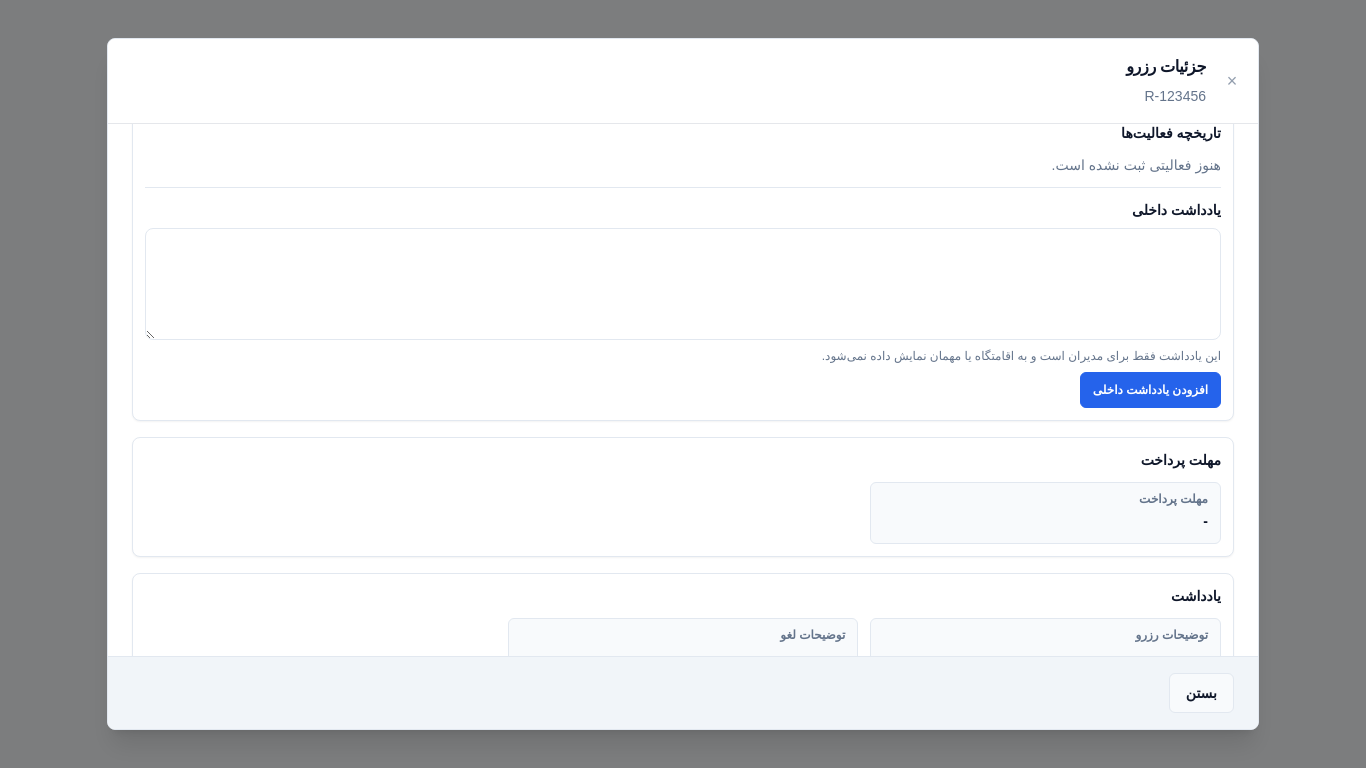
Scenario: Admin reservation activity timeline › trims a new note, prevents empty submission, appends the response and clears the field
The image size is (1366, 768).
(page scrolled)
Check: the text "هنوز فعالیتی ثبت نشده است." is shown, box [1052, 157, 1221, 173]
Click the button "افزودن یادداشت داخلی" at (1150, 390), box [1080, 372, 1221, 408]
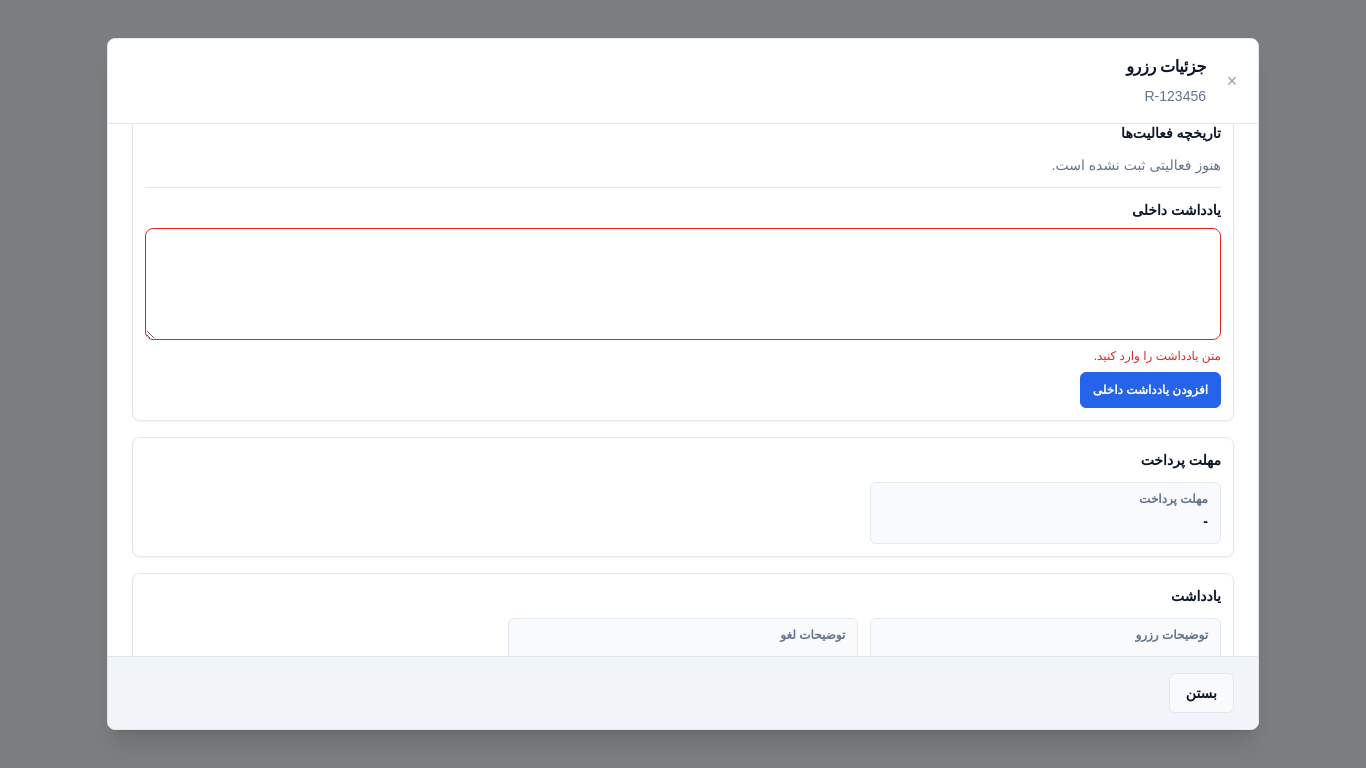
Check: the text "متن یادداشت را وارد کنید." is shown, box [1094, 349, 1221, 363]
Type "  پیگیری شد  " into the text box labelled "یادداشت داخلی" at (683, 284), box [145, 228, 1221, 340]
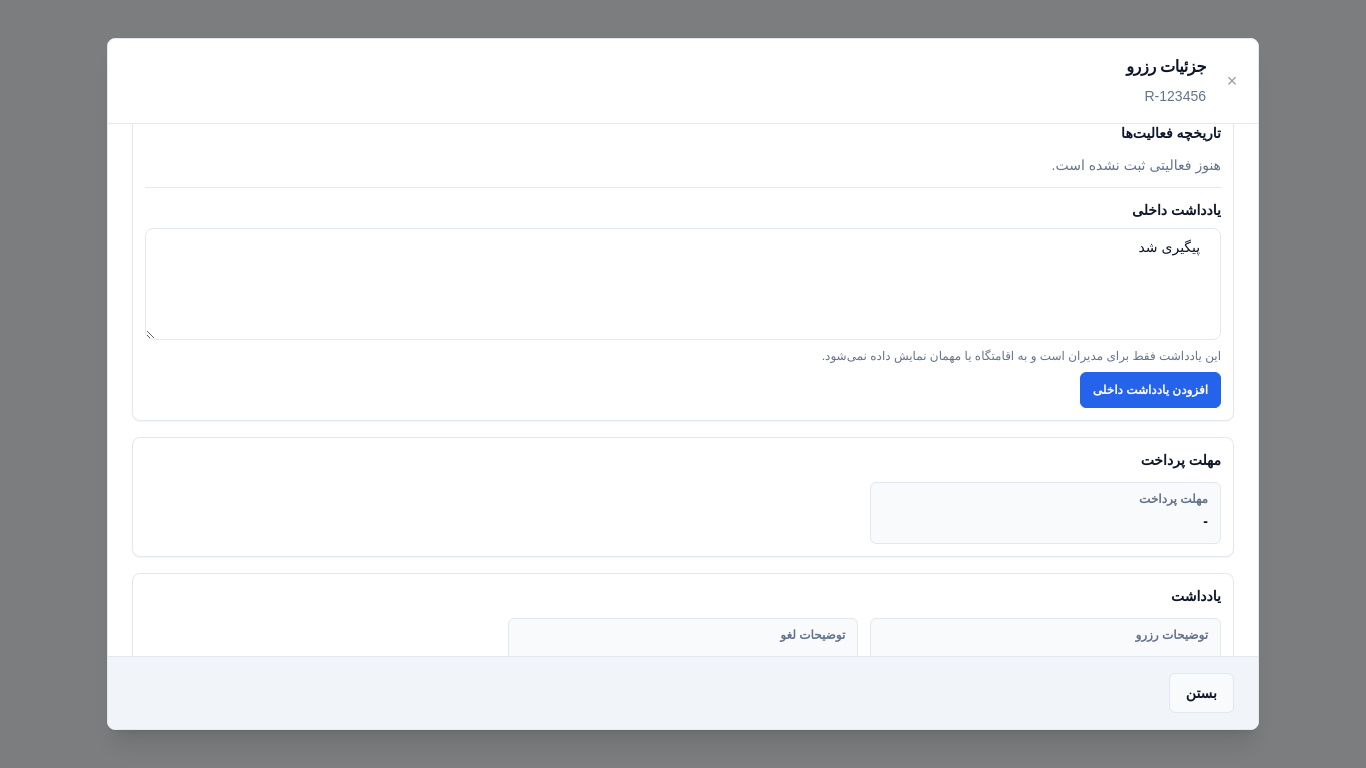
Click the button "افزودن یادداشت داخلی" at (1150, 390), box [1080, 372, 1221, 408]
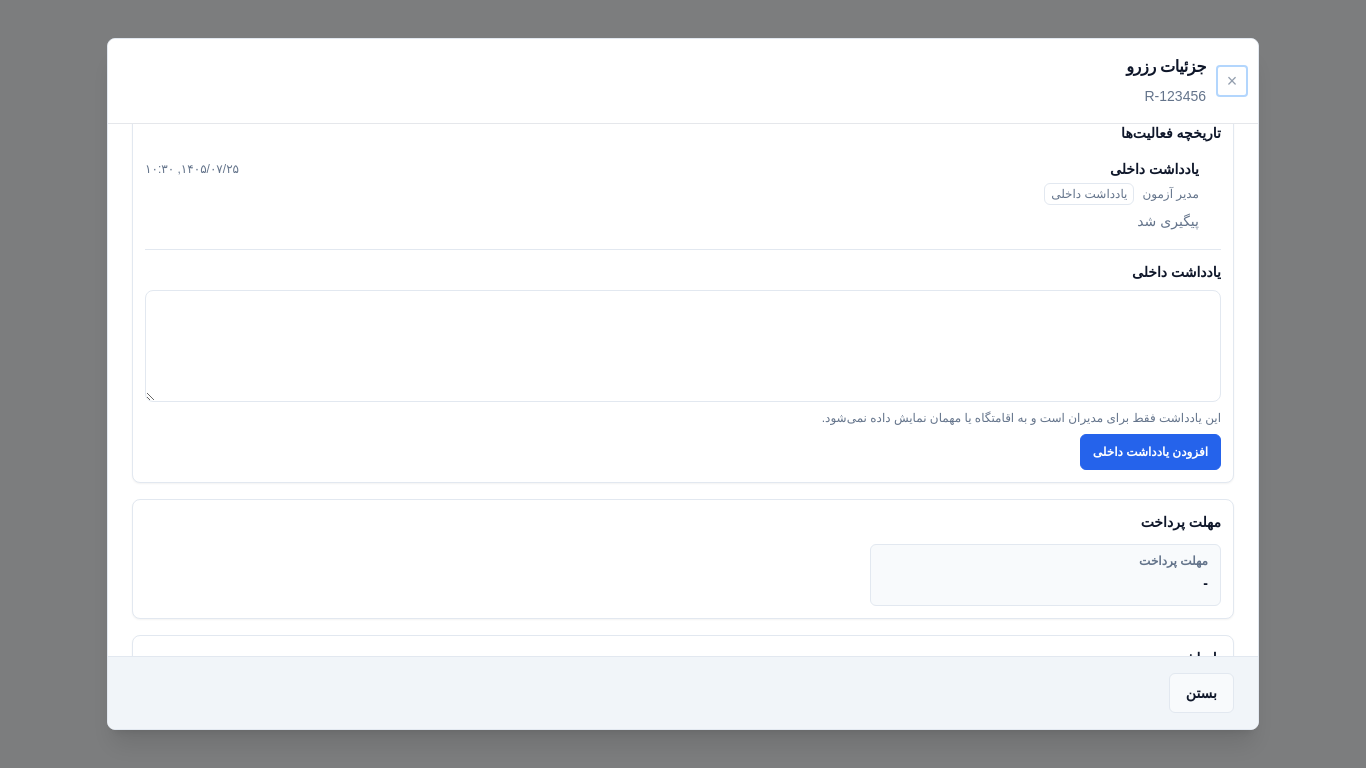
Check: the text "پیگیری شد" is shown, box [1137, 213, 1199, 229]
Check: the text "مدیر آزمون" is shown, box [1142, 186, 1199, 202]
Check: the text box labelled "یادداشت داخلی" is empty, box [145, 290, 1221, 402]
